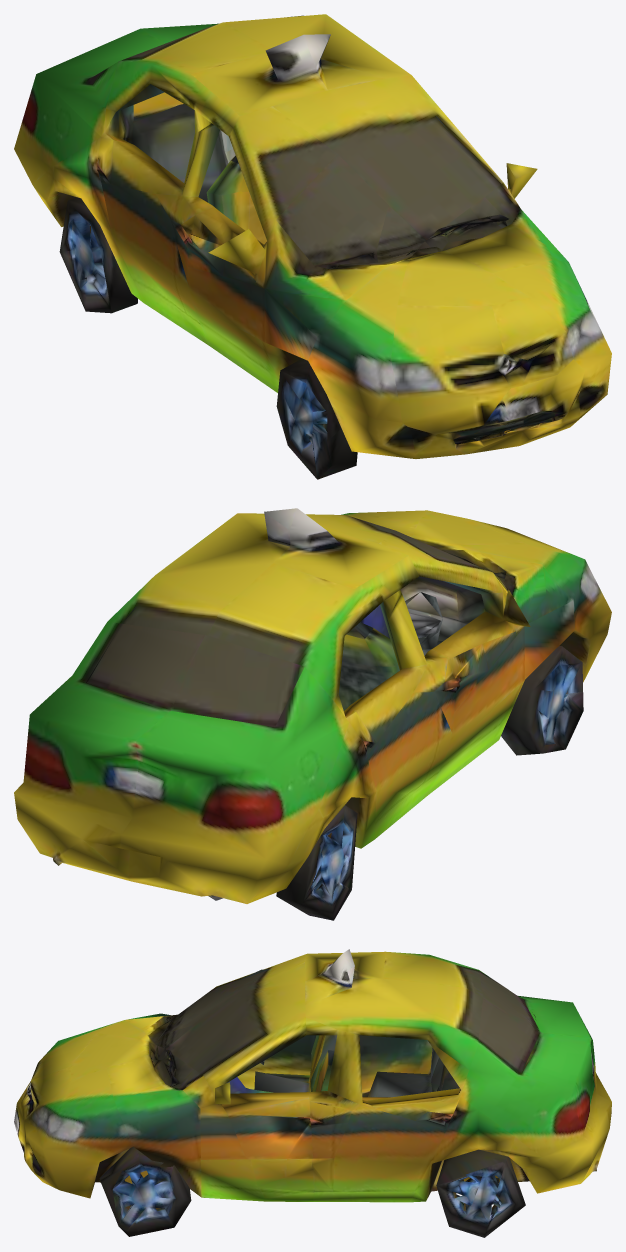
File: taxi.glb
The picture shows the model from 3 angles, top to bottom: view 1: azimuth 30°, elevation 25°; view 2: azimuth 150°, elevation 25°; view 3: azimuth 270°, elevation 25°; orthographic projection. The views are drawn at different scales.
Visible parts, largest first — view 1: tripo_node_100e8bcb-2316-427b-9c3d-9348eb8bbd52; view 2: tripo_node_100e8bcb-2316-427b-9c3d-9348eb8bbd52; view 3: tripo_node_100e8bcb-2316-427b-9c3d-9348eb8bbd52.
Part boxes in pixels (x1,y1,x2,y2): tripo_node_100e8bcb-2316-427b-9c3d-9348eb8bbd52: (14,14,611,479); tripo_node_100e8bcb-2316-427b-9c3d-9348eb8bbd52: (14,508,611,920); tripo_node_100e8bcb-2316-427b-9c3d-9348eb8bbd52: (14,949,611,1237).
Bounding box in the file's own units: 0.4769 × 0.4423 × 0.9984.
Materials: 1 (1 with a texture image).
